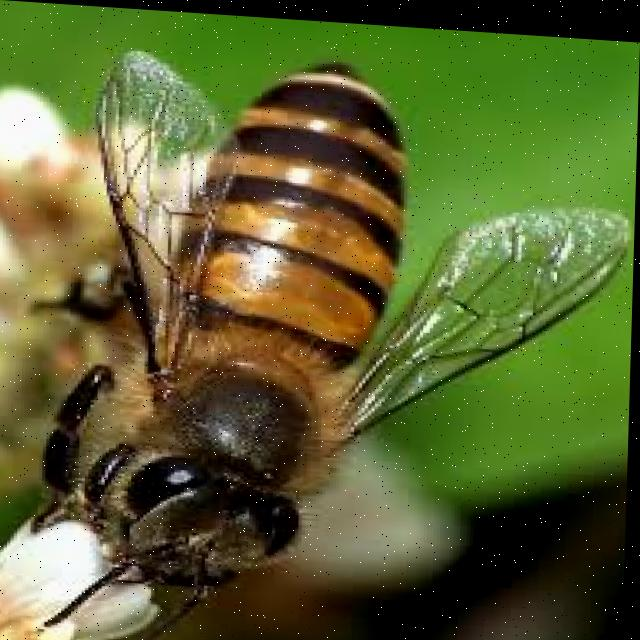Apis-mellifera-scutellata: (38, 7, 603, 640)
